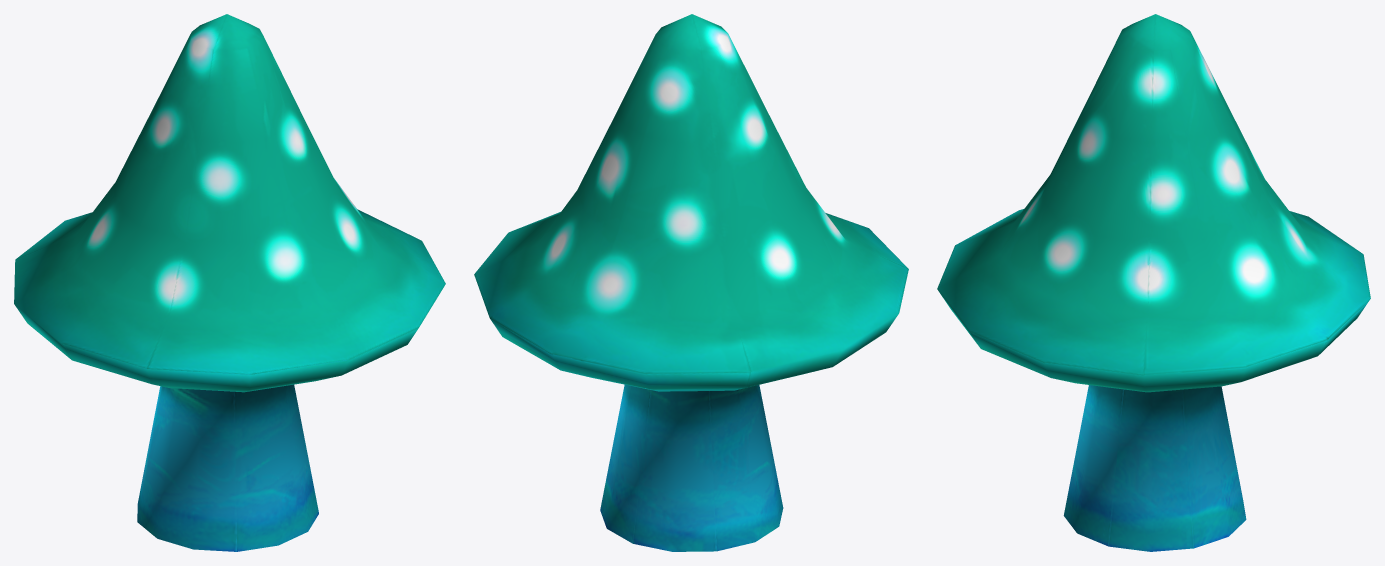
File: Plant_006.fbx
The picture shows the model from 3 angles, left to right: view 1: azimuth 30°, elevation 25°; view 2: azimuth 150°, elevation 25°; view 3: azimuth 270°, elevation 25°; orthographic projection.
Visible parts, largest first — view 1: Plant_006; view 2: Plant_006; view 3: Plant_006.
Part boxes in pixels (box(x1,y1,x2,y2)): Plant_006: box(14, 14, 445, 551); Plant_006: box(474, 14, 908, 551); Plant_006: box(937, 14, 1370, 551).
Size of the model in its own units: 256 by 325 by 256.
